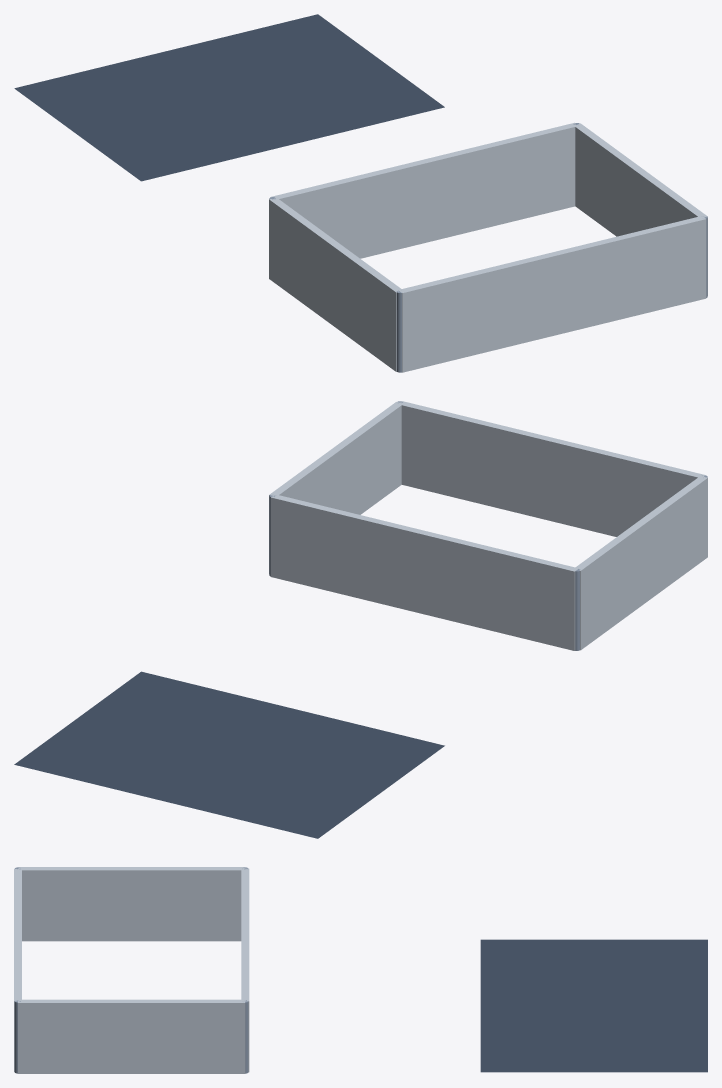
The model's file is b3f568d7-1325-432f-b70a-bbfad27b31a8.glb.
3 renders of one model, top to bottom at view 1: azimuth 30°, elevation 25°; view 2: azimuth 150°, elevation 25°; view 3: azimuth 270°, elevation 25°, orthographic. The views are drawn at different scales.
Parts seen in each view (by area): view 1: room-content; view 2: room-content; view 3: room-content.
Boxes of the visible parts, x1,y1,x2,y2 form: room-content: (14, 14, 707, 372); room-content: (14, 401, 707, 838); room-content: (14, 867, 707, 1073).
Bounding box in the file's own units: 20.5 × 5 × 44.25.
